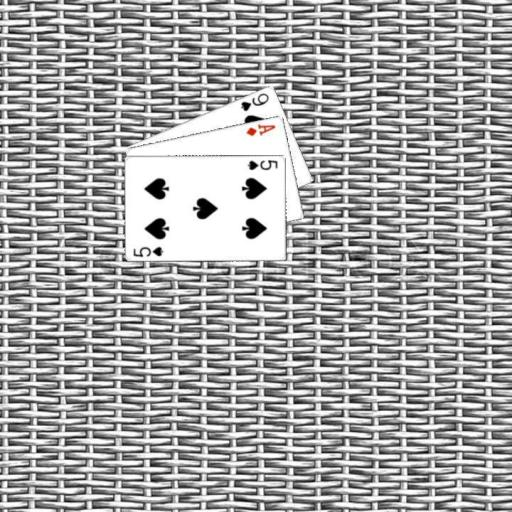card-corner: (238, 90, 270, 112), (244, 156, 280, 172), (243, 121, 277, 137), (131, 243, 165, 258)
